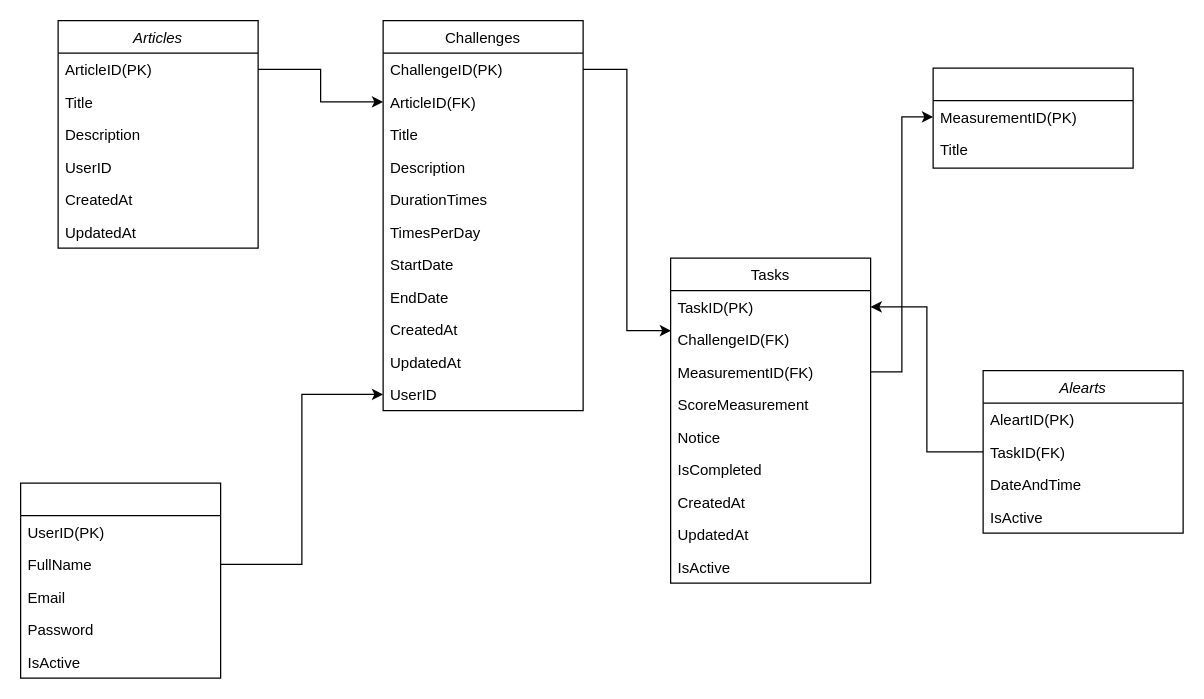
Some shapes in this 1204 by 699 pixel diagram are drawn without their labels. The shapes that lost their labels are listed below. From the top down, each one's box as (x1, y1, x2, y2) in pixels, then its label:
(932, 67, 1133, 168): Measurements
(19, 482, 221, 678): Users
